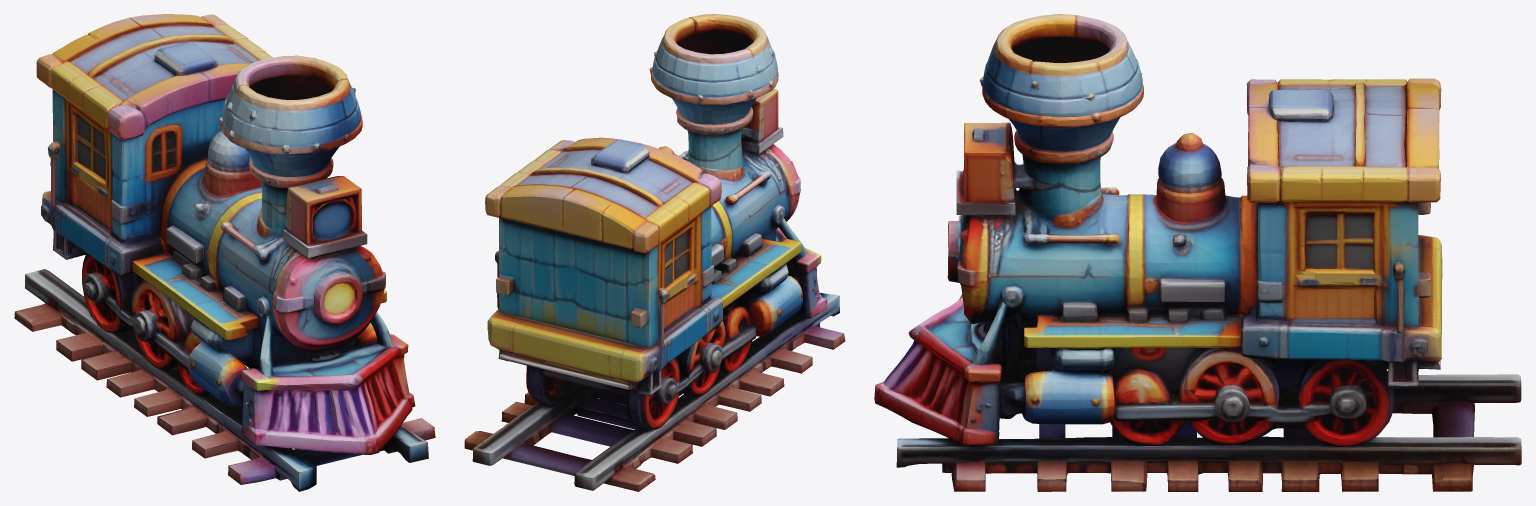
Rendered from typical_vehicle_locomotive.glb.
3 views of the same model, side by side, from view 1: azimuth 30°, elevation 25°; view 2: azimuth 150°, elevation 25°; view 3: azimuth 270°, elevation 25° (orthographic). The views are drawn at different scales.
Parts seen in each view (by area): view 1: world; view 2: world; view 3: world.
Part boxes in pixels (bbox=[...]): world: bbox=[14, 14, 435, 491]; world: bbox=[464, 14, 845, 491]; world: bbox=[874, 14, 1521, 491].
Bounding box in the file's own units: 0.3993 × 0.6787 × 1.
Materials: 1 (1 with a texture image).
